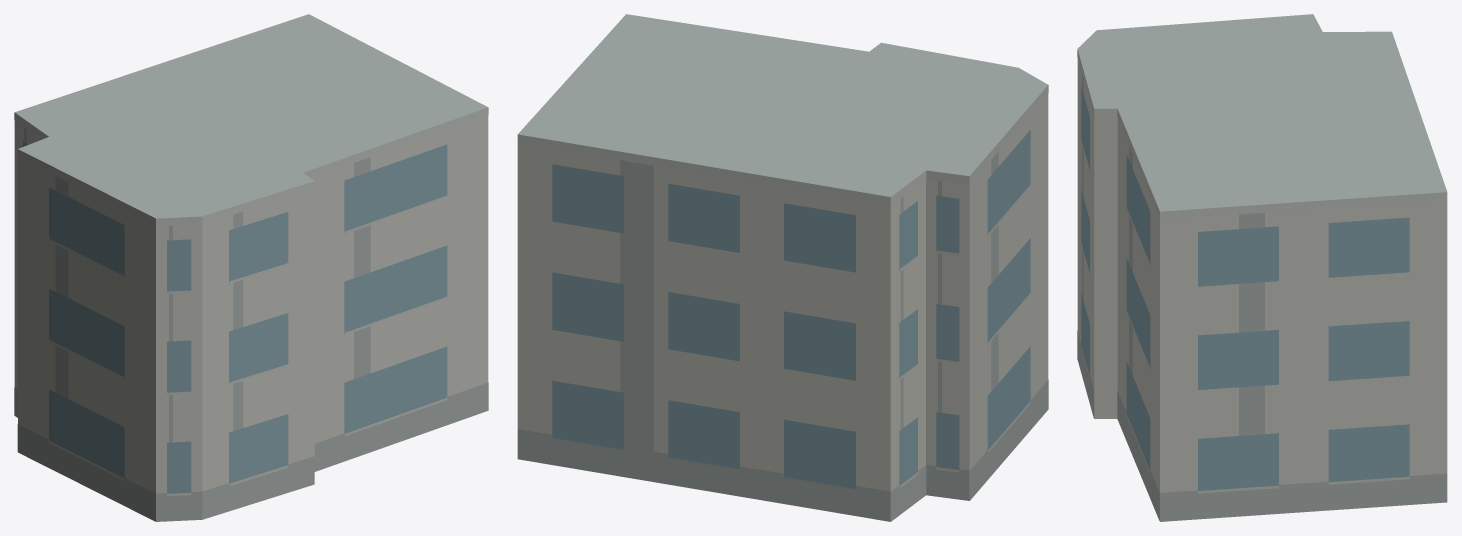
File: residential-175c2c6c-d147-4cfd-a59e-025db9c58efb.glb
The picture shows the model from 3 angles, left to right: view 1: azimuth 30°, elevation 25°; view 2: azimuth 150°, elevation 25°; view 3: azimuth 270°, elevation 25°; orthographic projection. The views are drawn at different scales.
Parts seen in each view (by area): view 1: residential-175c2c6c-d147-4cfd-a59e-025db9c58efb.tmp; view 2: residential-175c2c6c-d147-4cfd-a59e-025db9c58efb.tmp; view 3: residential-175c2c6c-d147-4cfd-a59e-025db9c58efb.tmp.
Boxes of the visible parts, x1,y1,x2,y2 form: residential-175c2c6c-d147-4cfd-a59e-025db9c58efb.tmp: (14,14,488,521); residential-175c2c6c-d147-4cfd-a59e-025db9c58efb.tmp: (517,14,1048,521); residential-175c2c6c-d147-4cfd-a59e-025db9c58efb.tmp: (1077,14,1447,521).
Size of the model in its own units: 12.5 by 9.15 by 9.9.
